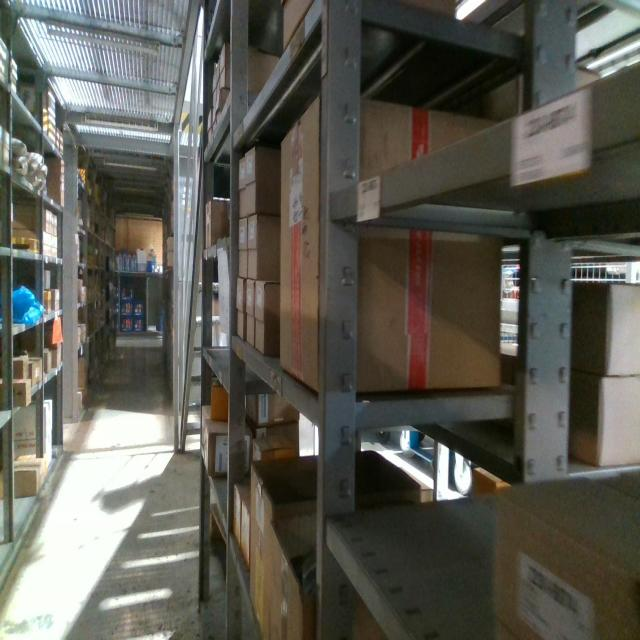pallet: (211, 501, 226, 566)
stillage: (496, 260, 638, 352)
